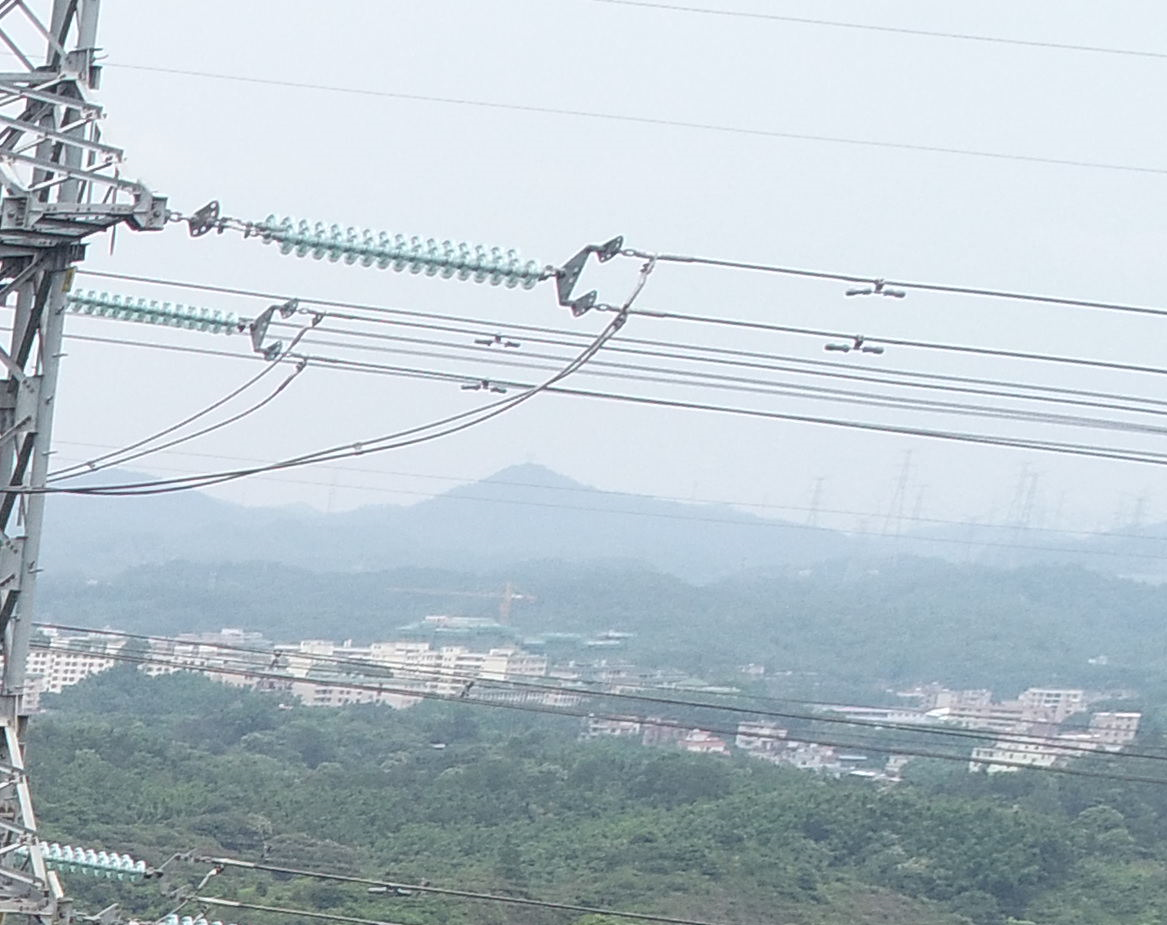damper: (822, 330, 886, 358), (841, 274, 911, 298), (459, 375, 508, 397), (472, 330, 523, 350), (365, 879, 416, 899)
